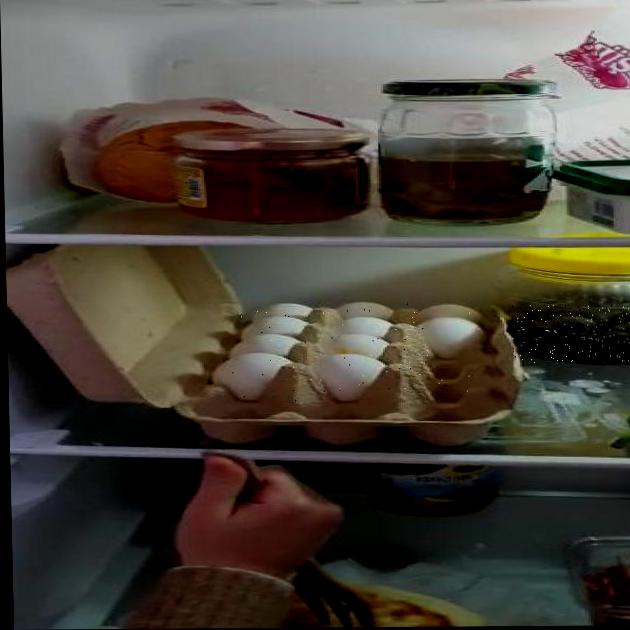eggs: (228, 303, 481, 402)
olives: (512, 304, 630, 363)
